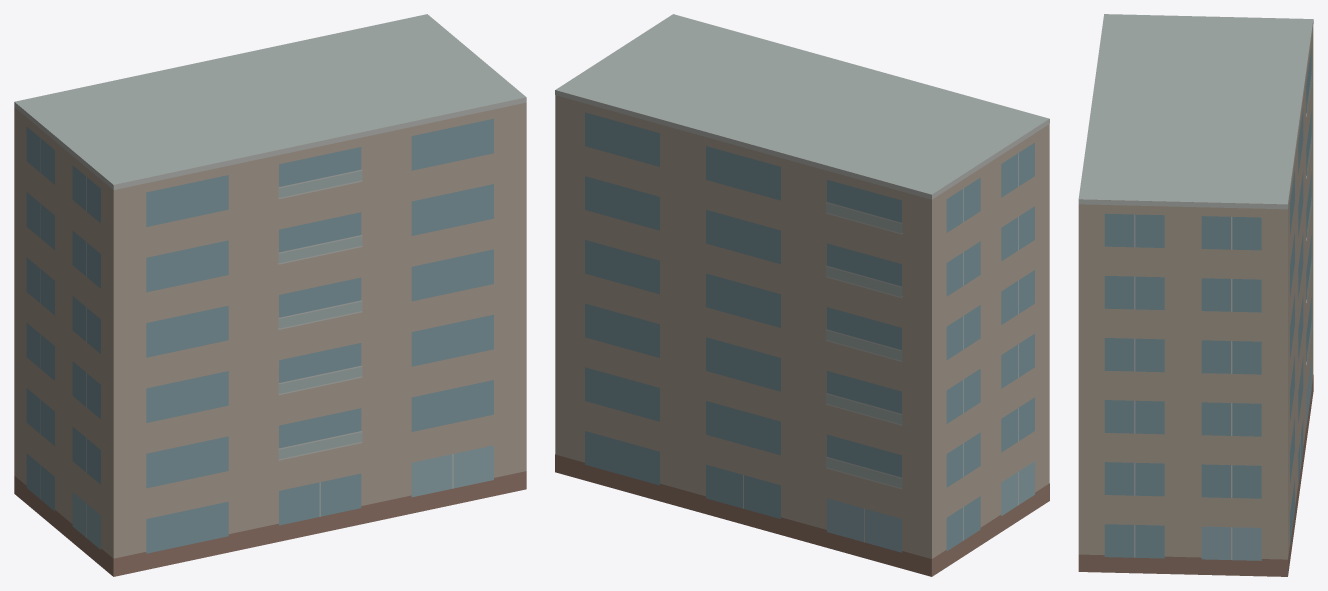
Rendered from survey-upis-32553553.glb.
3 renders of one model, left to right at view 1: azimuth 30°, elevation 25°; view 2: azimuth 150°, elevation 25°; view 3: azimuth 270°, elevation 25°, orthographic. The views are drawn at different scales.
Parts seen in each view (by area): view 1: survey-upis-32553553.tmp; view 2: survey-upis-32553553.tmp; view 3: survey-upis-32553553.tmp.
Part boxes in pixels (x1,y1,x2,y2): survey-upis-32553553.tmp: (14, 14, 526, 576); survey-upis-32553553.tmp: (555, 14, 1049, 576); survey-upis-32553553.tmp: (1078, 14, 1313, 576).
Bounding box in the file's own units: 20.07 × 18.3 × 10.47.
